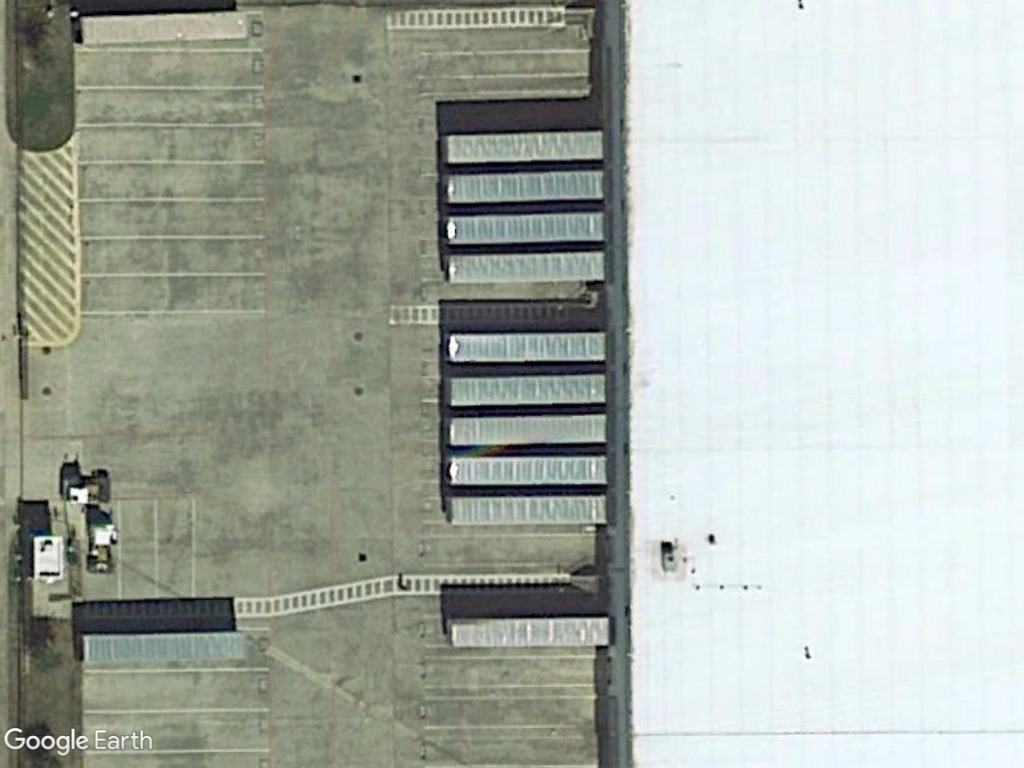longvehicle: (437, 362, 612, 415), (442, 161, 608, 216), (441, 322, 612, 374), (442, 406, 615, 456), (434, 125, 611, 173), (436, 203, 608, 252), (442, 609, 617, 656), (442, 444, 612, 491), (442, 483, 612, 530), (444, 242, 611, 288), (73, 629, 258, 670)
